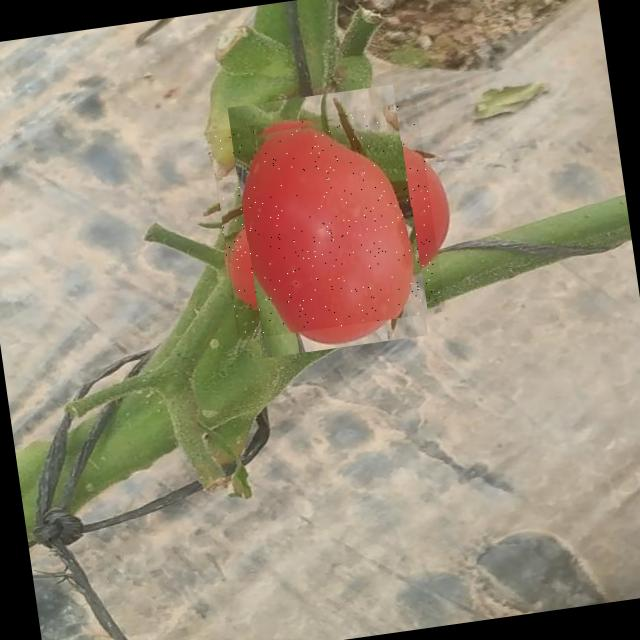Ripe Tomato: (209, 102, 446, 340)
